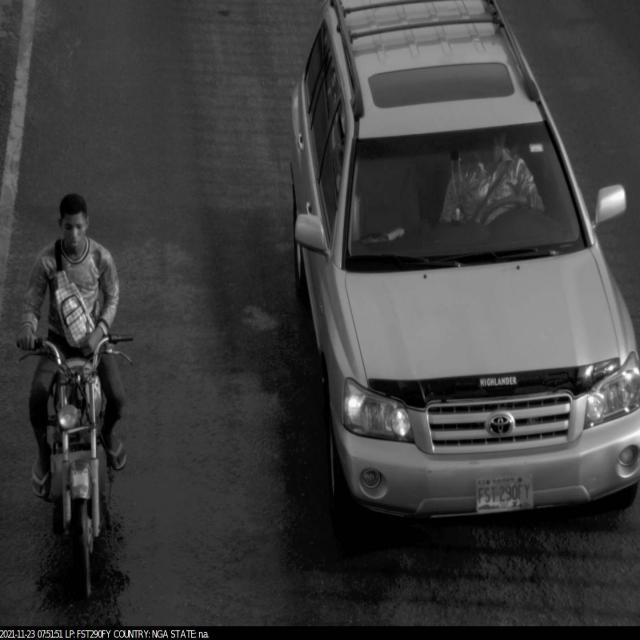windshield: (340, 116, 594, 281)
